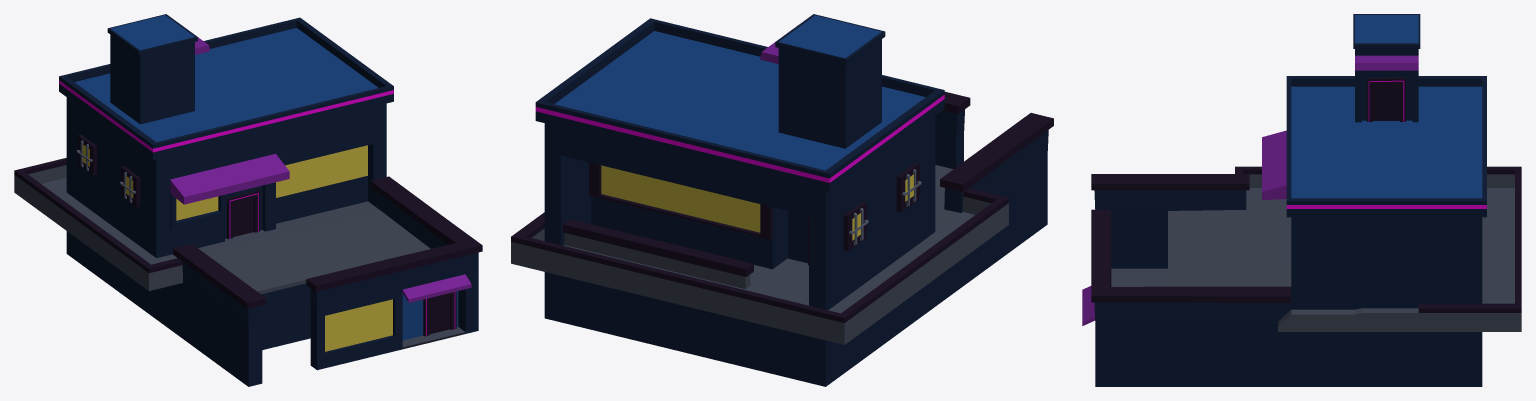
Rendered from Building_Apartment05.fbx.
3 views of the same model, side by side, from view 1: azimuth 30°, elevation 25°; view 2: azimuth 150°, elevation 25°; view 3: azimuth 270°, elevation 25° (orthographic). The views are drawn at different scales.
Parts seen in each view (by area): view 1: Cube.107; view 2: Cube.107; view 3: Cube.107.
Part boxes in pixels (left/top/right/bottom): Cube.107: left=14, top=14, right=482, bottom=386; Cube.107: left=511, top=14, right=1053, bottom=386; Cube.107: left=1082, top=14, right=1521, bottom=386.
Bounding box in the file's own units: 1091 × 931 × 1426.
